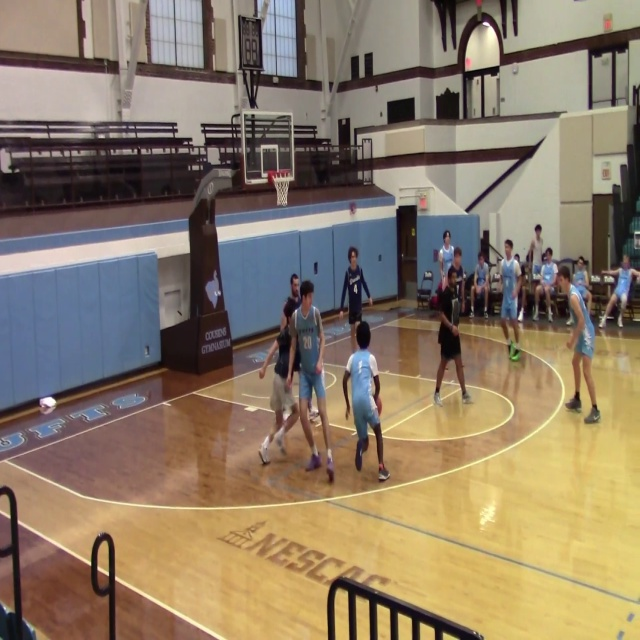Basketball: (374, 396, 382, 415)
